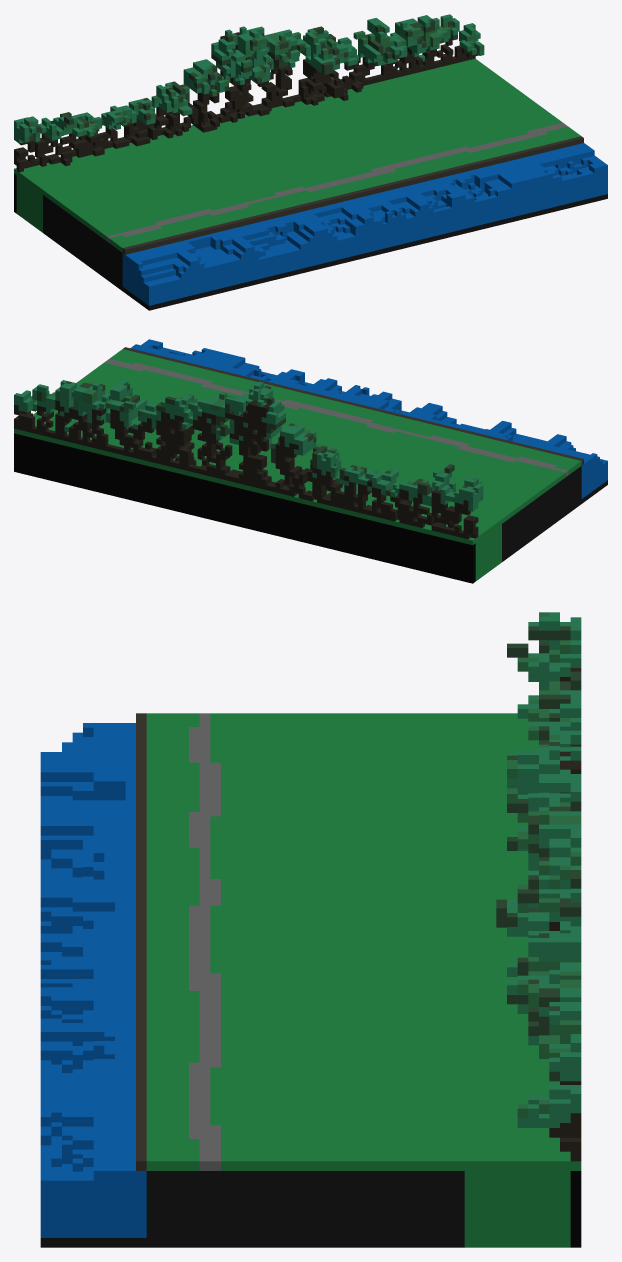
File: Park 2.obj
The picture shows the model from 3 angles, top to bottom: view 1: azimuth 30°, elevation 25°; view 2: azimuth 150°, elevation 25°; view 3: azimuth 270°, elevation 25°; orthographic projection. The views are drawn at different scales.
Visible parts, largest first — view 1: Park 2; view 2: Park 2; view 3: Park 2.
Boxes of the visible parts, <box> form: Park 2: <box>14,14,607,310</box>; Park 2: <box>14,339,607,583</box>; Park 2: <box>40,612,581,1247</box>.
Bounding box in the file's own units: 100 × 28 × 51.
1 material, 1 textured.
